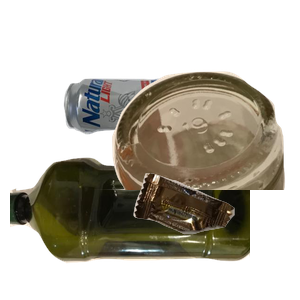glass: (89, 69, 300, 249)
metal: (61, 75, 231, 202)
plastic: (10, 149, 250, 300)
trash: (131, 171, 300, 300)
